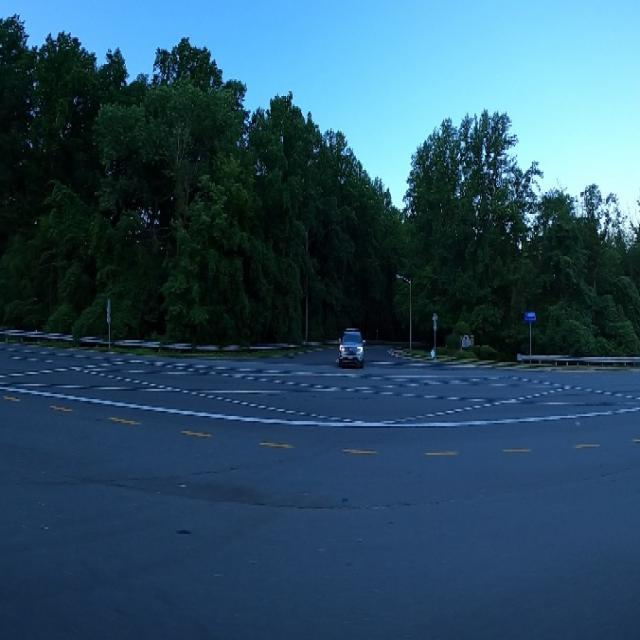cars: (337, 318, 368, 374)
